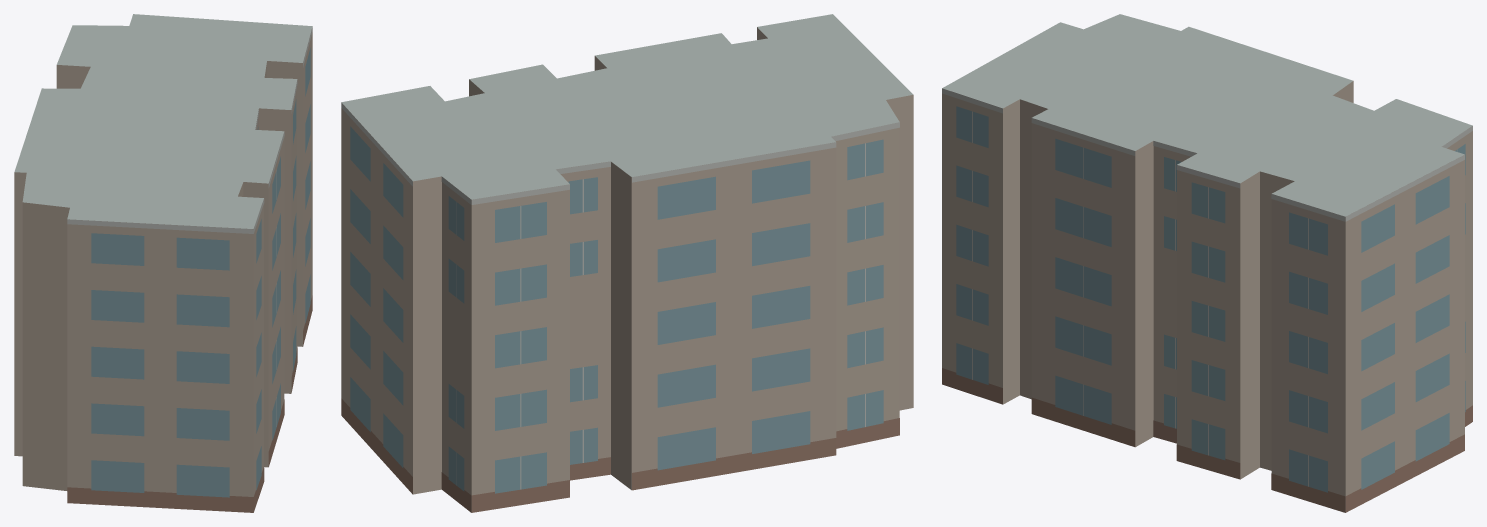
The model's file is survey-upis-32578105.glb.
3 renders of one model, left to right at view 1: azimuth 30°, elevation 25°; view 2: azimuth 150°, elevation 25°; view 3: azimuth 270°, elevation 25°, orthographic. The views are drawn at different scales.
Parts seen in each view (by area): view 1: survey-upis-32578105.tmp; view 2: survey-upis-32578105.tmp; view 3: survey-upis-32578105.tmp.
Boxes of the visible parts, x1,y1,x2,y2 form: survey-upis-32578105.tmp: (14, 14, 312, 512); survey-upis-32578105.tmp: (341, 14, 913, 512); survey-upis-32578105.tmp: (942, 14, 1472, 512).
Size of the model in its own units: 20.56 by 14 by 22.75.
